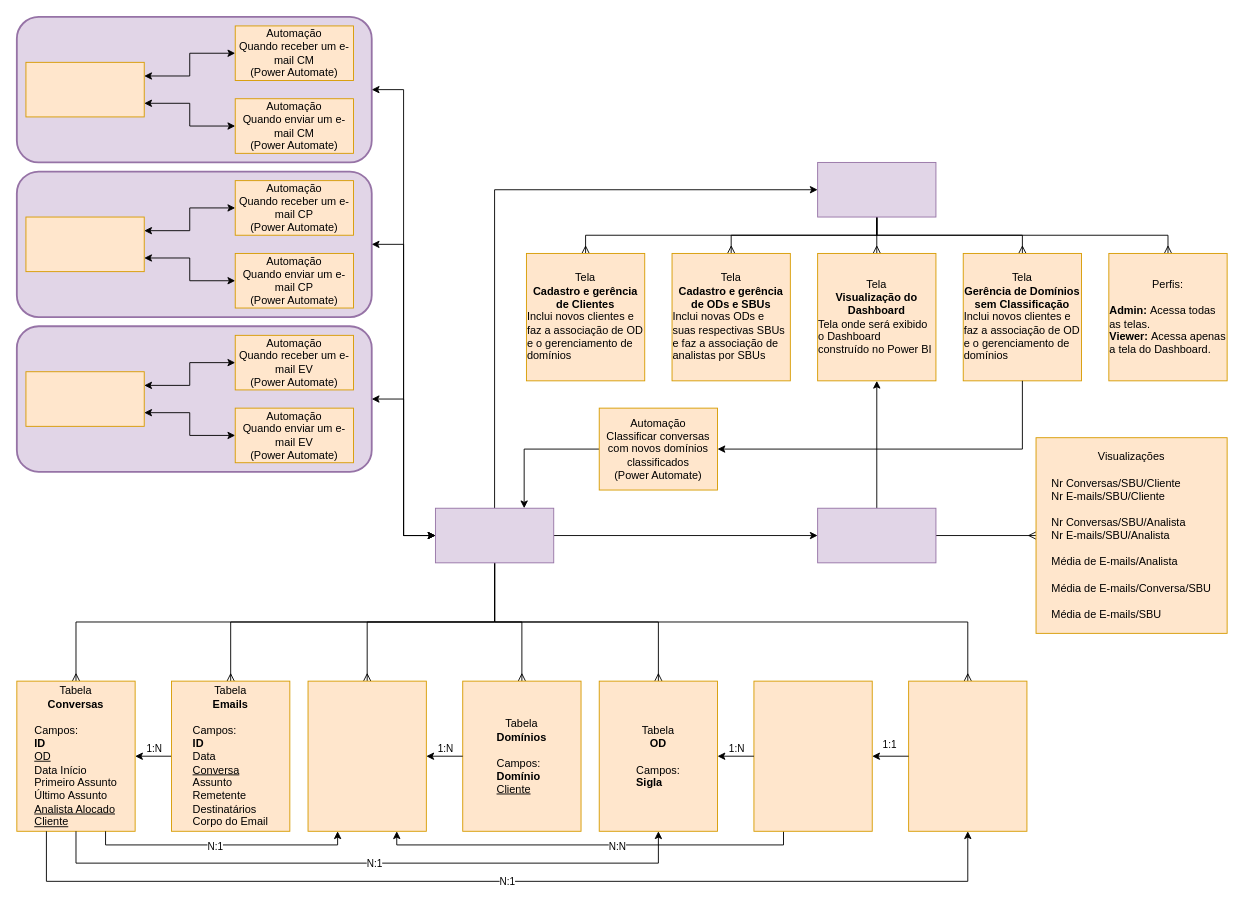
Some shapes in this 1243 by 905 pixel diagram are drawn without their labels. The shapes that lost their labels are listed below. From the top down, each one's box as (x1, y1, x2, y2) in pixels, then its label:
(25, 61, 144, 117): Caixa de E-mail customercareGB_CM (Outlook)
(817, 162, 936, 217): Aplicativo (PowerApps)
(25, 216, 144, 272): Caixa de E-mail customercareGB_CP (Outlook)
(25, 371, 144, 426): Caixa de E-mail customercareGB_EV (Outlook)
(435, 507, 554, 563): Banco de Dados (Dataverse)
(817, 507, 936, 563): Relatório de dados (PowerBI)
(307, 680, 426, 831): Tabela Cliente Campos: Razão Social Sold To SBU
(753, 680, 872, 831): Tabela SBU Campos: Sigla OD
(908, 680, 1027, 831): Tabela Analistas Campos: Email do Analista Nome do Analista SBU
